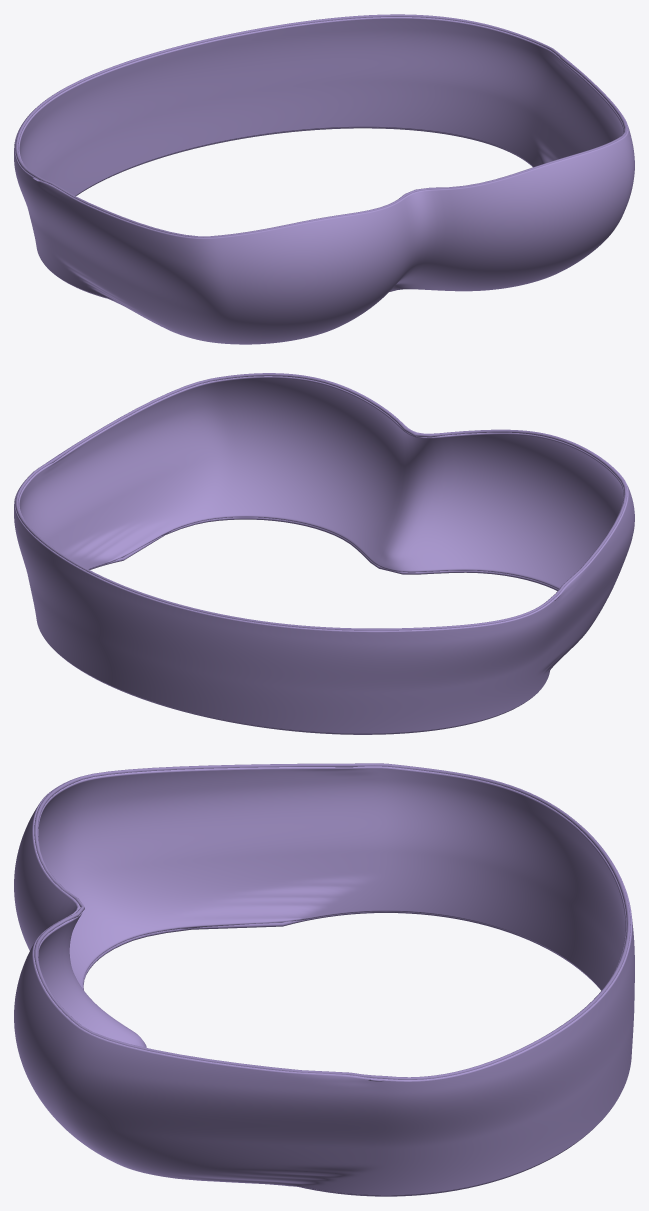
The model's file is Feminine-bandeau-top.glb.
3 views of the same model, one above another, from view 1: azimuth 30°, elevation 25°; view 2: azimuth 150°, elevation 25°; view 3: azimuth 270°, elevation 25° (orthographic). The views are drawn at different scales.
Visible parts, largest first — view 1: Clothing / Bandeau, Bandeau / bound edge.001 export, Bandeau / bound edge export; view 2: Clothing / Bandeau, Bandeau / bound edge.001 export, Bandeau / bound edge export; view 3: Clothing / Bandeau, Bandeau / bound edge.001 export, Bandeau / bound edge export.
Part boxes in pixels (box(x1,y1,x2,y2)): Clothing / Bandeau: box(14, 17, 634, 344); Bandeau / bound edge.001 export: box(15, 14, 627, 237); Bandeau / bound edge export: box(68, 127, 532, 298); Clothing / Bandeau: box(14, 373, 634, 733); Bandeau / bound edge.001 export: box(15, 373, 627, 630); Bandeau / bound edge export: box(67, 517, 558, 734); Clothing / Bandeau: box(14, 766, 634, 1195); Bandeau / bound edge.001 export: box(34, 763, 630, 1079); Bandeau / bound edge export: box(83, 911, 589, 1196).
Size of the model in its own units: 0.6458 by 0.158 by 0.5374.
